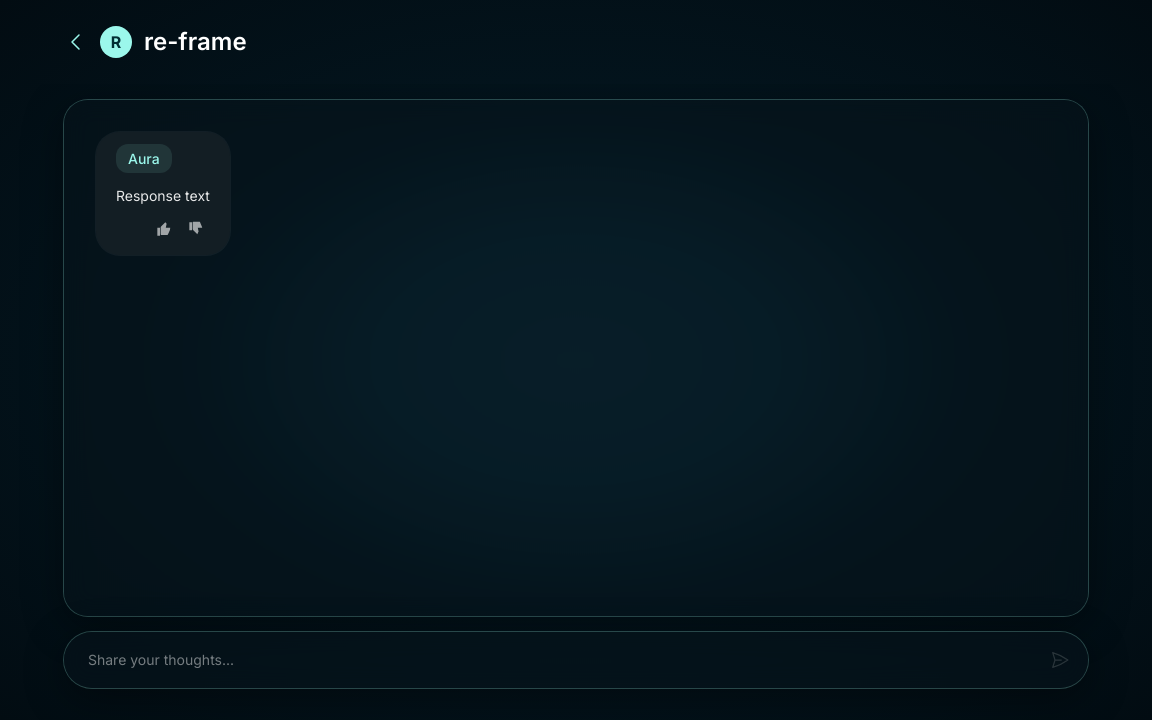
it: ChatClient - Inline Feedback › allows adding note after initial feedback
Expected: the text "Response text" is shown, x1=116 y1=185 x2=210 y2=207
# Click thumbs up
Step 1. Click the button named "Thumbs up" → click(164, 229), box x1=150 y1=215 x2=178 y2=243
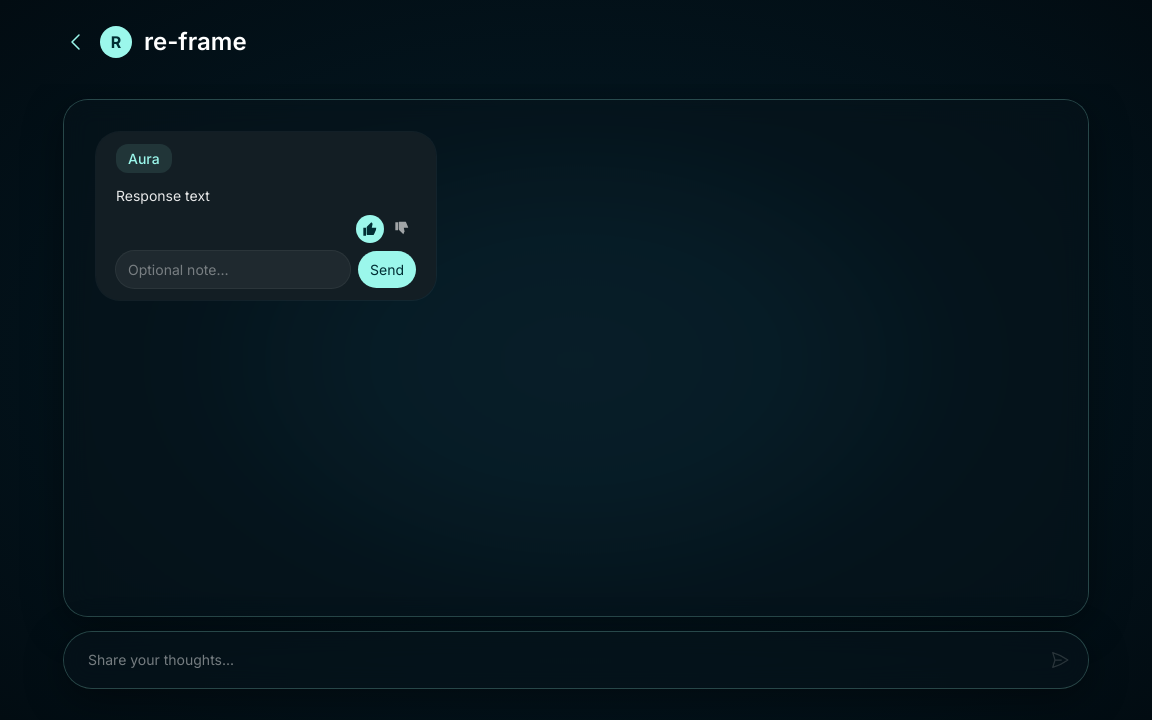
# Send without note initially (scoped to note row)
Step 2. Click the button "Send" → click(387, 270), box x1=358 y1=251 x2=416 y2=288
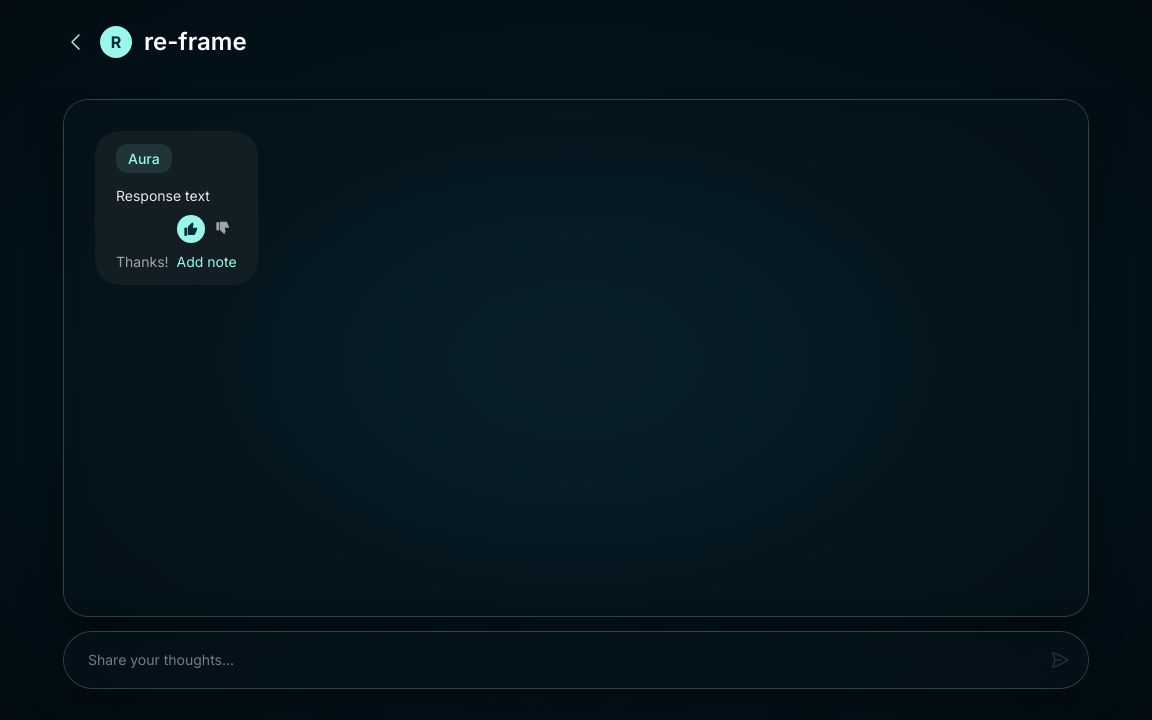
Now the text "Thanks!" is shown, box x1=116 y1=251 x2=169 y2=272
# Click "Add note" link
Step 3. Click the button "Add note" → click(207, 262), box x1=177 y1=251 x2=237 y2=272
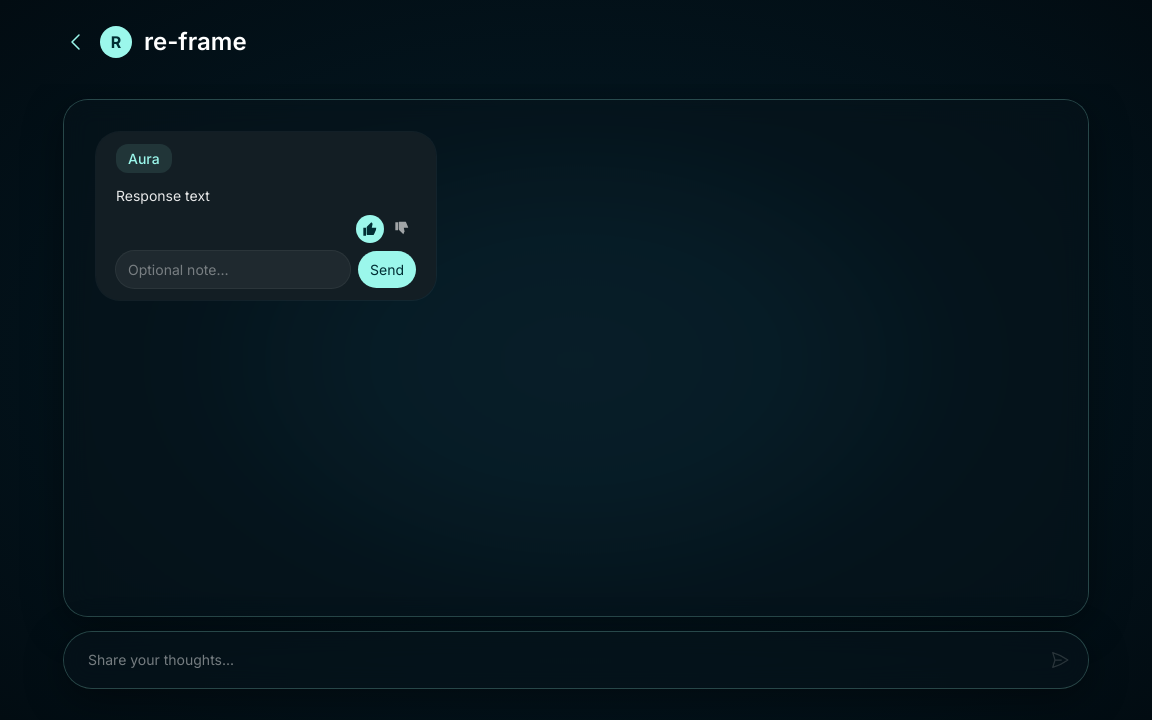
Now the field with placeholder "Optional note…" is shown, box x1=116 y1=251 x2=350 y2=288
